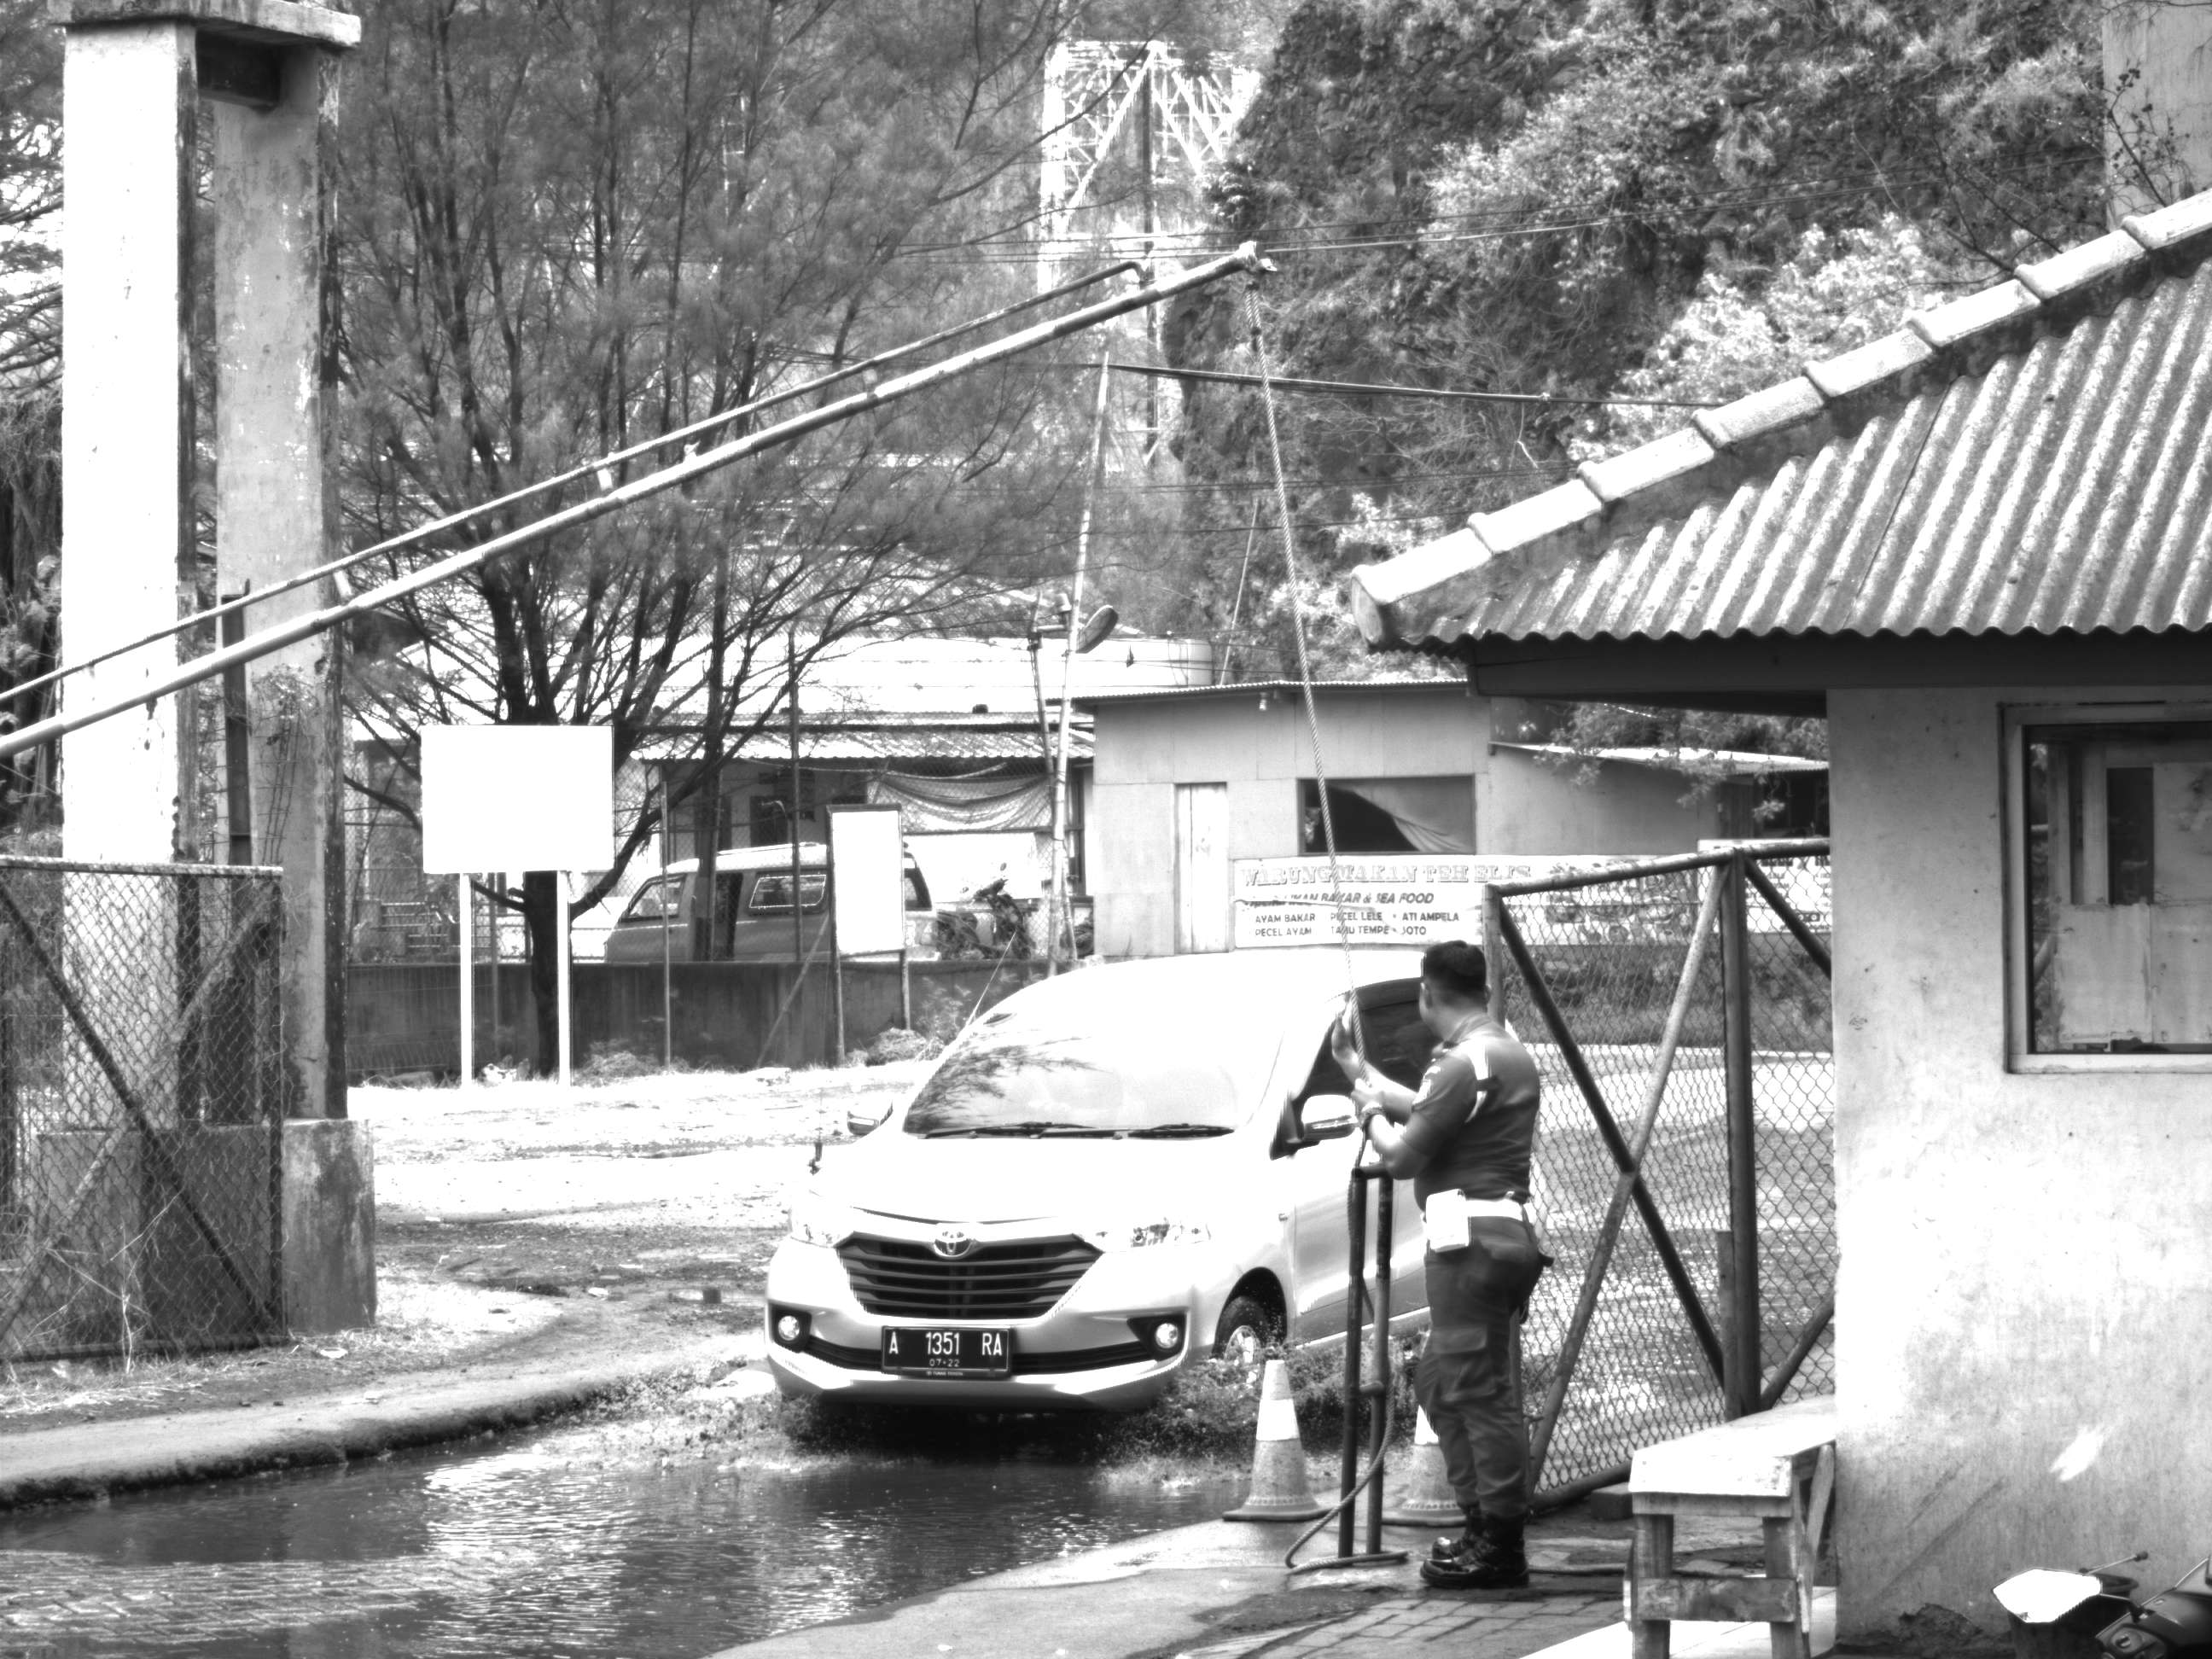day_small_front: (760, 958, 1320, 1448)
plate: (876, 1318, 1029, 1379)
